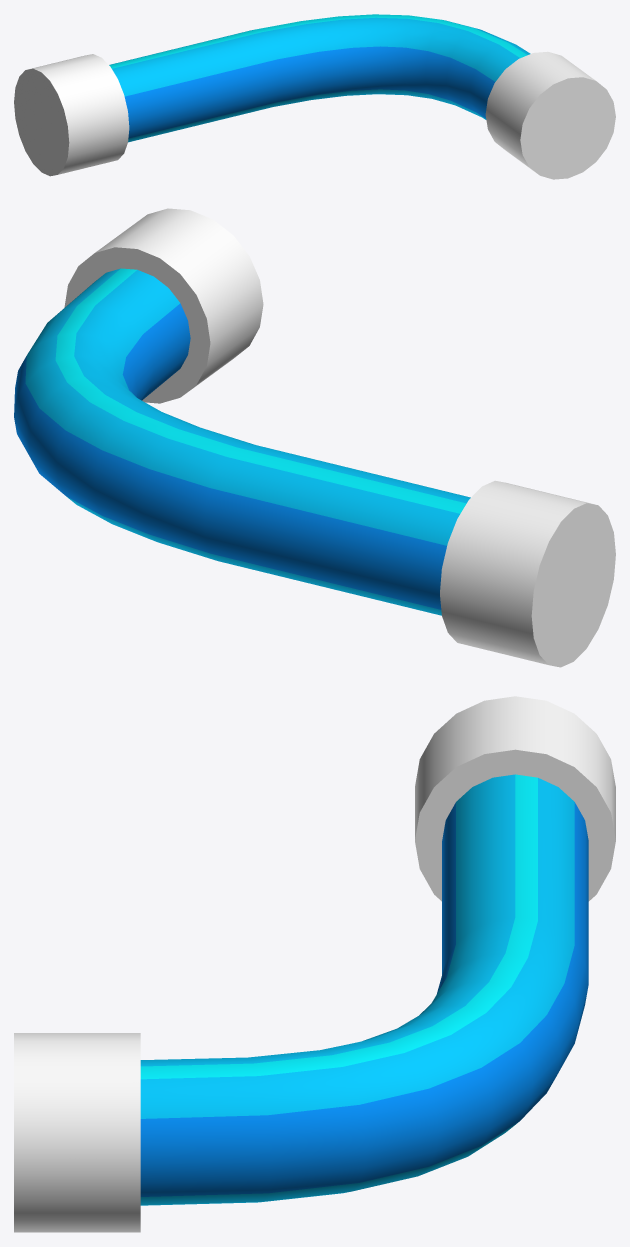
File: Building_02.fbx
3 renders of one model, top to bottom at view 1: azimuth 30°, elevation 25°; view 2: azimuth 150°, elevation 25°; view 3: azimuth 270°, elevation 25°, orthographic. The views are drawn at different scales.
Visible parts, largest first — view 1: Building_02; view 2: Building_02; view 3: Building_02.
Boxes of the visible parts, left/top/right/bottom form: Building_02: left=14, top=14, right=615, bottom=179; Building_02: left=14, top=208, right=615, bottom=667; Building_02: left=14, top=696, right=615, bottom=1232.
Bounding box in the file's own units: 135 × 29.66 × 88.77.
